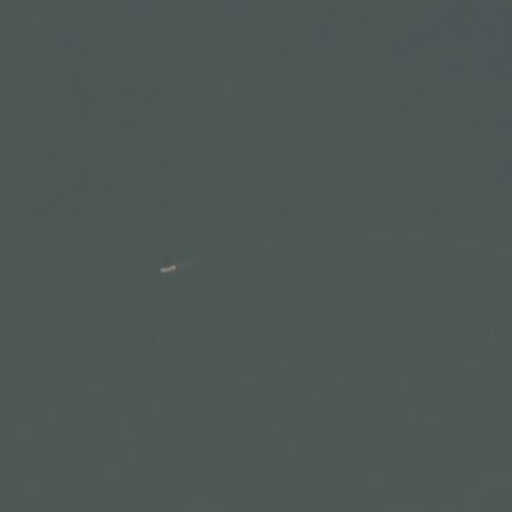ship: (156, 262, 181, 276)
